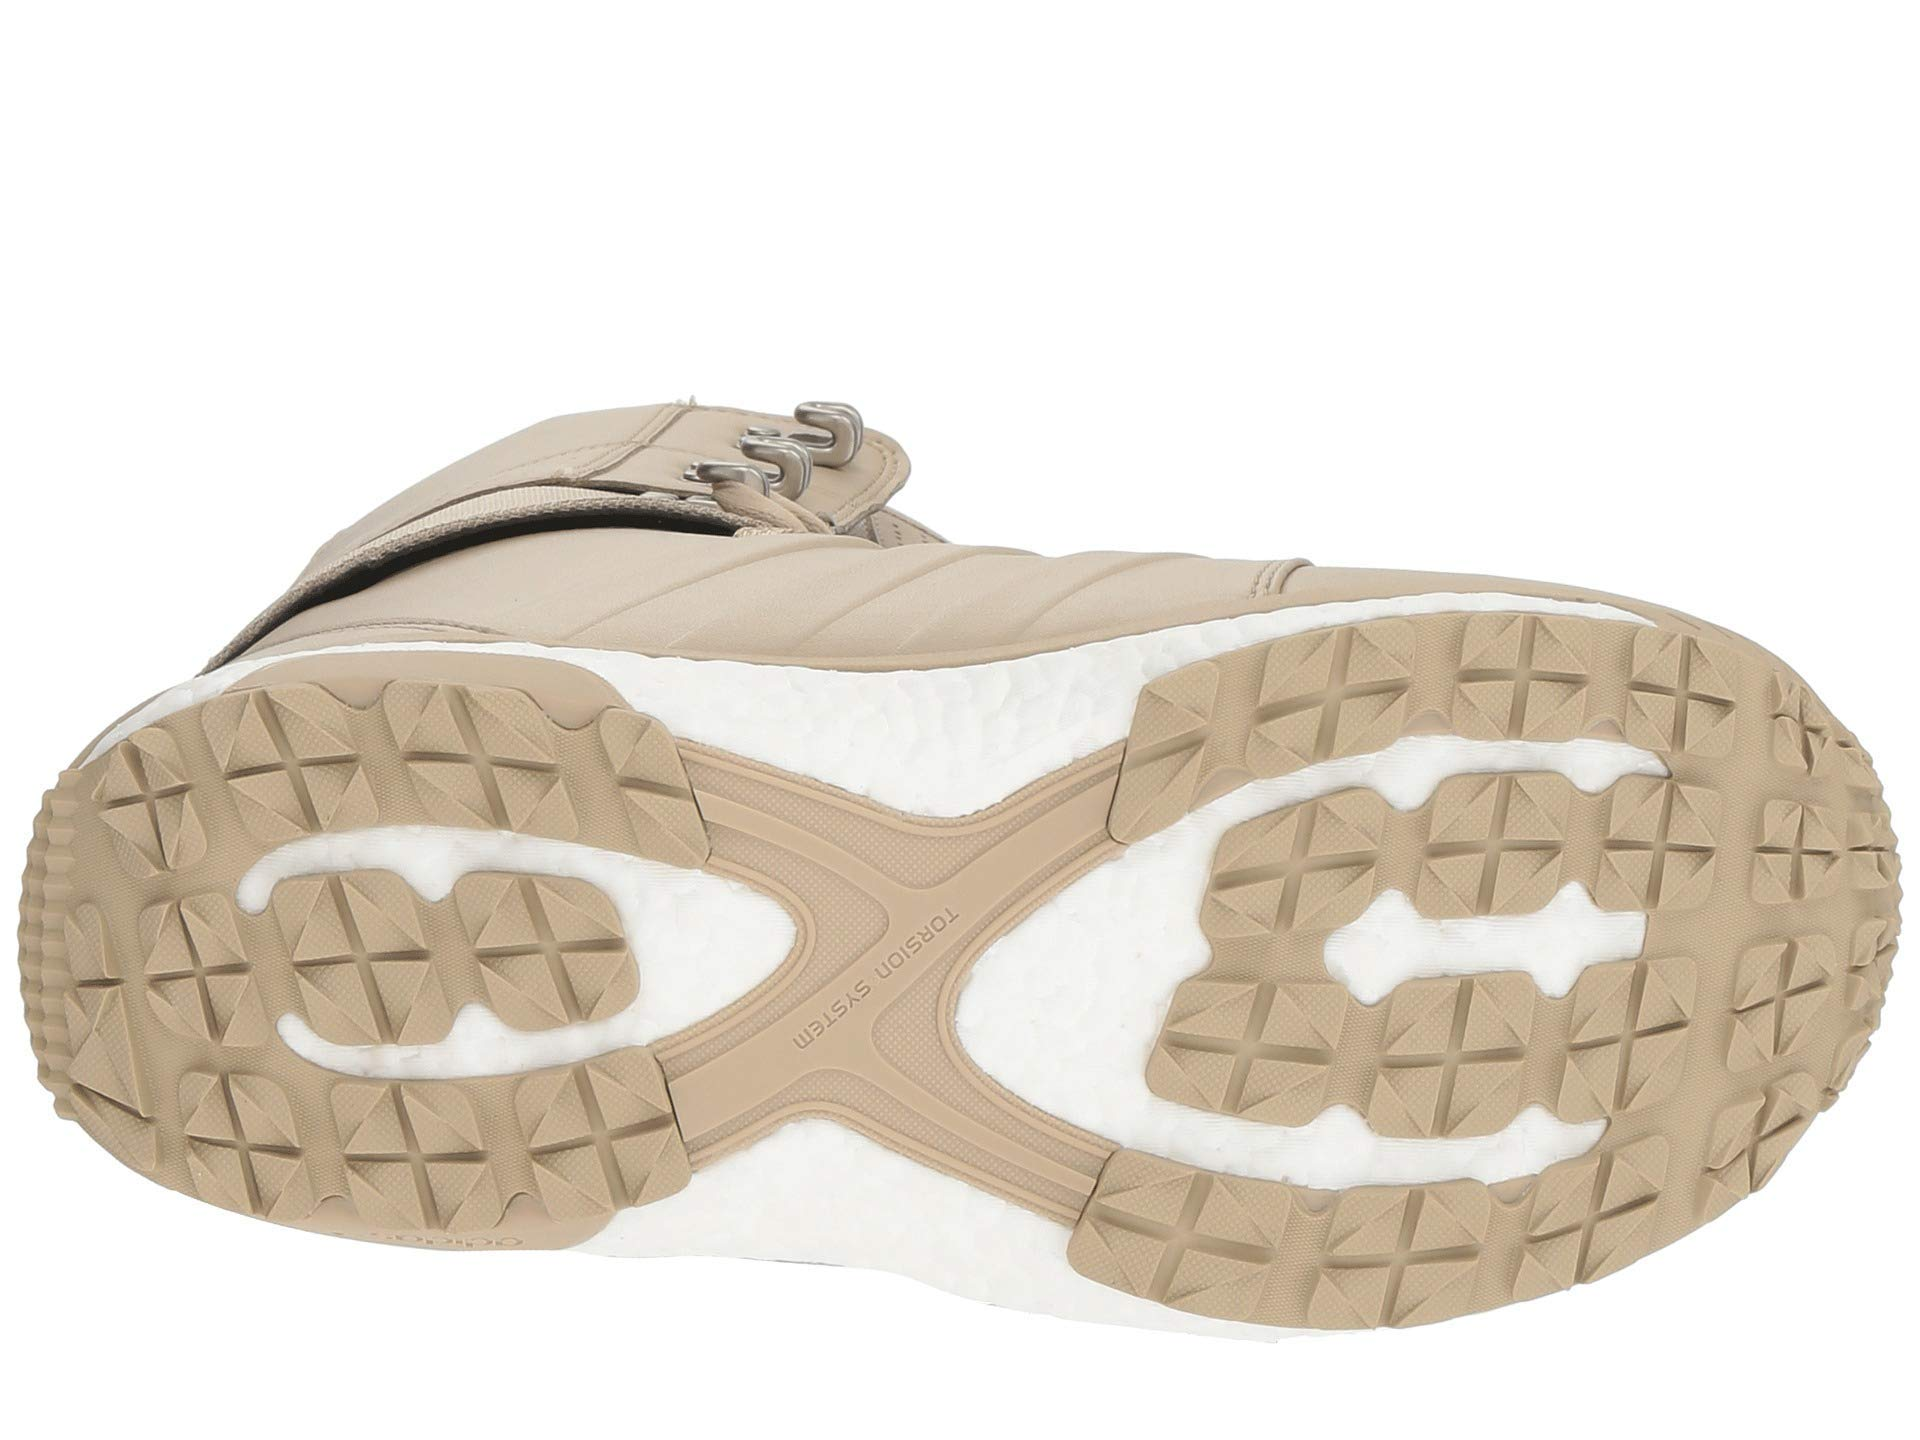circle: (782, 889, 990, 1071)
quad: (1203, 762, 1878, 953), (198, 681, 738, 883), (145, 1039, 705, 1221), (1108, 1147, 1677, 1305), (1163, 971, 1746, 1122), (1225, 638, 1801, 752), (290, 870, 624, 1038), (135, 892, 252, 1044)
text: (782, 889, 990, 1071)
triangle: (1203, 762, 1878, 953), (198, 681, 738, 883), (145, 1039, 705, 1221), (1108, 1147, 1677, 1305), (1163, 971, 1746, 1122), (1225, 638, 1801, 752), (290, 870, 624, 1038), (135, 892, 252, 1044)
